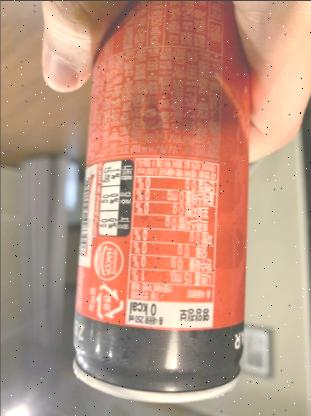Can: (70, 0, 248, 402)
